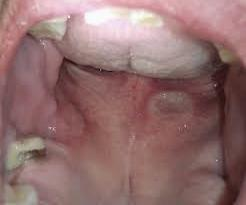Caries: (16, 137, 53, 166)
Ulcer: (147, 85, 200, 126)
